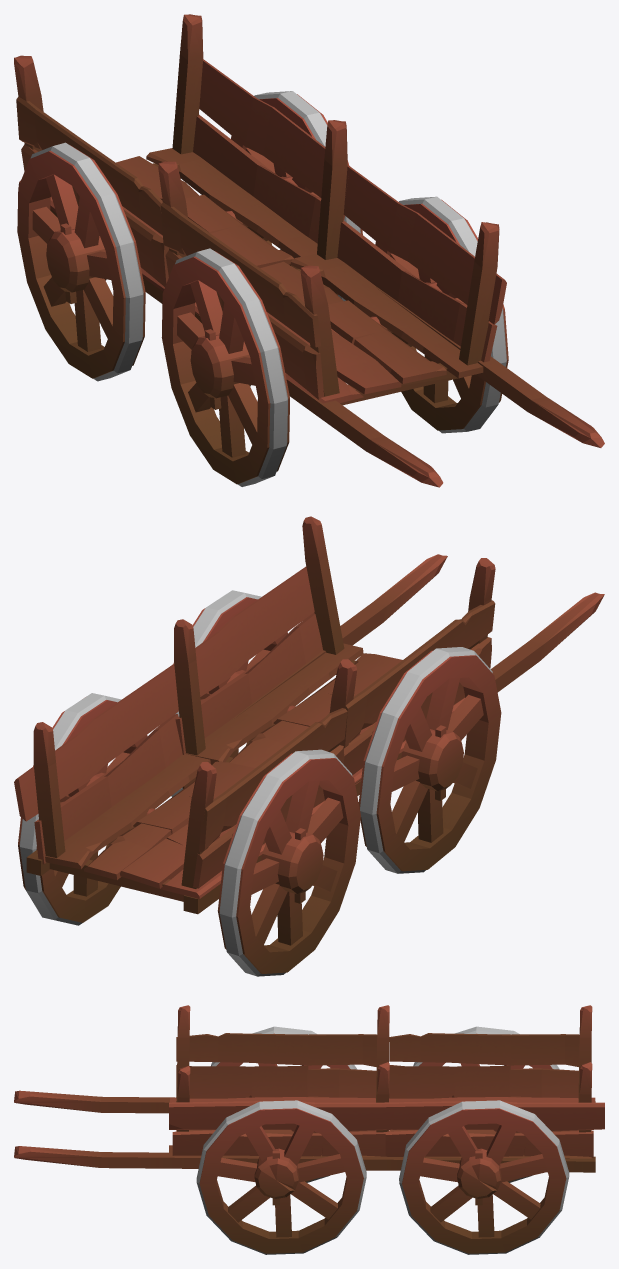
Rendered from CartBig1.fbx.
3 views of the same model, one above another, from view 1: azimuth 30°, elevation 25°; view 2: azimuth 150°, elevation 25°; view 3: azimuth 270°, elevation 25° (orthographic). The views are drawn at different scales.
Parts seen in each view (by area): view 1: CartBig1; view 2: CartBig1; view 3: CartBig1.
Boxes of the visible parts, left/top/right/bottom form: CartBig1: left=14, top=14, right=604, bottom=487; CartBig1: left=14, top=516, right=604, bottom=976; CartBig1: left=14, top=1005, right=604, bottom=1254.
Size of the model in its own units: 2.4 by 2.3 by 6.78.
